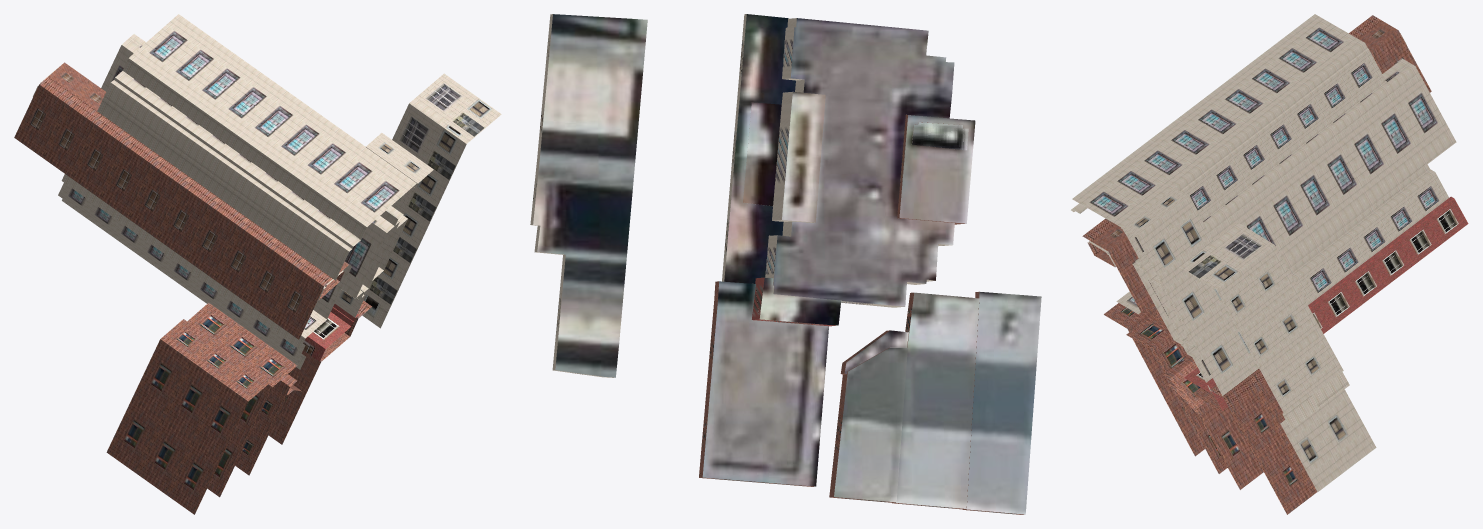
The picture shows the model from 3 angles, left to right: view 1: azimuth 30°, elevation 25°; view 2: azimuth 150°, elevation 25°; view 3: azimuth 270°, elevation 25°; orthographic projection. The views are drawn at different scales.
Bounding box in the file's own units: 44.26 × 44.21 × 36.31.
50 materials, 50 textured.
